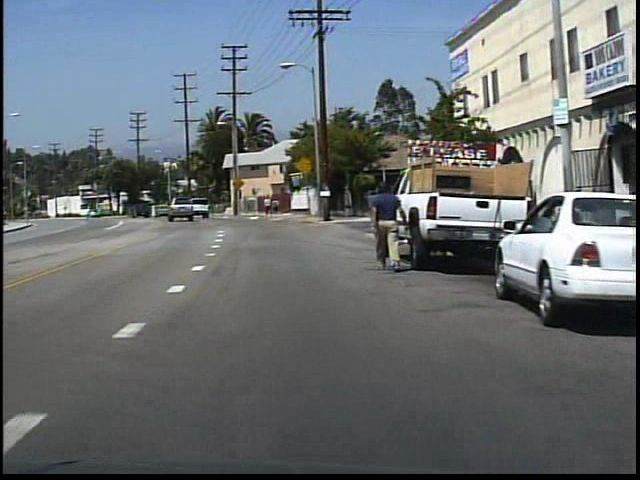person: (364, 177, 408, 275), (263, 194, 273, 218), (271, 197, 281, 216)
